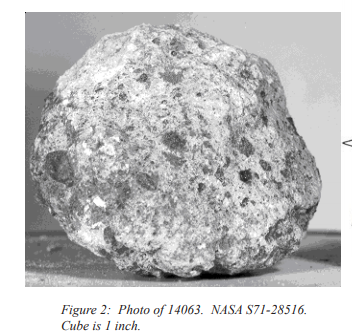Breccia: (19, 34, 305, 264)
